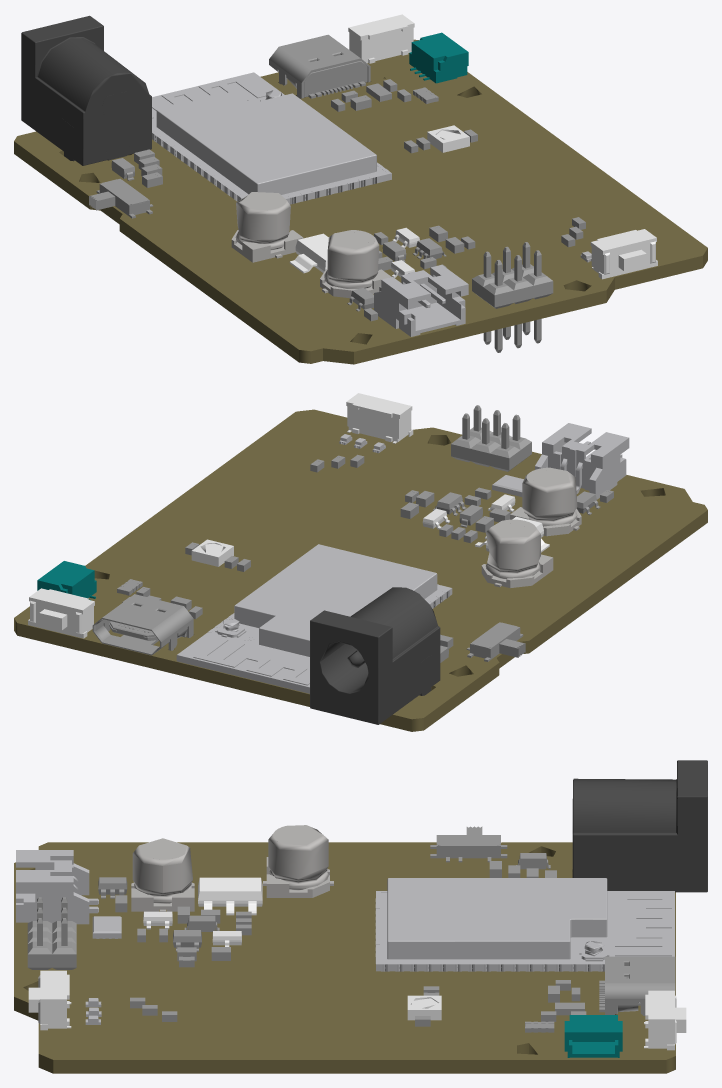
Rendered from ada-4775.glb.
The picture shows the model from 3 angles, top to bottom: view 1: azimuth 30°, elevation 25°; view 2: azimuth 150°, elevation 25°; view 3: azimuth 270°, elevation 25°; orthographic projection. The views are drawn at different scales.
Visible parts, largest first — view 1: 0.16666666666666666_0.16666666666666666_0.08333333333333333_, 0.5833333333333334_0.5833333333333334_0.5833333333333334_0.8, 0.3333333333333333_0.3333333333333333_0.3333333333333333_0, 0.08333333333333333_0.08333333333333333_0.08333333333333333_, 0.5_0.5_0.5_0.85, 0.9166666666666666_0.9166666666666666_0.9166666666666666_0.8, 0_0.25_0.25_0, 1_1_1_0.85; view 2: 0.16666666666666666_0.16666666666666666_0.08333333333333333_, 0.5833333333333334_0.5833333333333334_0.5833333333333334_0.8, 0.3333333333333333_0.3333333333333333_0.3333333333333333_0, 0.08333333333333333_0.08333333333333333_0.08333333333333333_, 0.5_0.5_0.5_0.85, 0.9166666666666666_0.9166666666666666_0.9166666666666666_0.8, 0_0.25_0.25_0; view 3: 0.16666666666666666_0.16666666666666666_0.08333333333333333_, 0.5833333333333334_0.5833333333333334_0.5833333333333334_0.8, 0.08333333333333333_0.08333333333333333_0.08333333333333333_, 0.3333333333333333_0.3333333333333333_0.3333333333333333_0, 0.5_0.5_0.5_0.85, 0.9166666666666666_0.9166666666666666_0.9166666666666666_0.8, 0_0.25_0.25_0, 1_1_1_0.85.
Boxes of the visible parts, box(x1,y1,x2,y2) form: 0.16666666666666666_0.16666666666666666_0.08333333333333333_: box(14, 39, 707, 364); 0.5833333333333334_0.5833333333333334_0.5833333333333334_0.8: box(152, 72, 591, 336); 0.3333333333333333_0.3333333333333333_0.3333333333333333_0: box(89, 34, 585, 352); 0.08333333333333333_0.08333333333333333_0.08333333333333333_: box(21, 15, 151, 165); 0.5_0.5_0.5_0.85: box(231, 192, 391, 298); 0.9166666666666666_0.9166666666666666_0.9166666666666666_0.8: box(348, 14, 657, 279); 0_0.25_0.25_0: box(409, 32, 468, 83); 1_1_1_0.85: box(289, 233, 328, 273); 0.16666666666666666_0.16666666666666666_0.08333333333333333_: box(14, 409, 707, 731); 0.5833333333333334_0.5833333333333334_0.5833333333333334_0.8: box(176, 423, 629, 693); 0.3333333333333333_0.3333333333333333_0.3333333333333333_0: box(92, 405, 613, 662); 0.08333333333333333_0.08333333333333333_0.08333333333333333_: box(310, 587, 440, 724); 0.5_0.5_0.5_0.85: box(481, 467, 581, 588); 0.9166666666666666_0.9166666666666666_0.9166666666666666_0.8: box(28, 393, 515, 638); 0_0.25_0.25_0: box(37, 561, 96, 600); 0.16666666666666666_0.16666666666666666_0.08333333333333333_: box(14, 842, 675, 1073); 0.5833333333333334_0.5833333333333334_0.5833333333333334_0.8: box(16, 850, 674, 1024); 0.08333333333333333_0.08333333333333333_0.08333333333333333_: box(572, 760, 707, 892); 0.3333333333333333_0.3333333333333333_0.3333333333333333_0: box(27, 826, 675, 1032); 0.5_0.5_0.5_0.85: box(131, 825, 333, 911); 0.9166666666666666_0.9166666666666666_0.9166666666666666_0.8: box(28, 911, 686, 1050); 0_0.25_0.25_0: box(564, 1015, 622, 1057); 1_1_1_0.85: box(198, 877, 262, 915).
Bounding box in the file's own units: 5.46 × 1.69 × 7.19.
